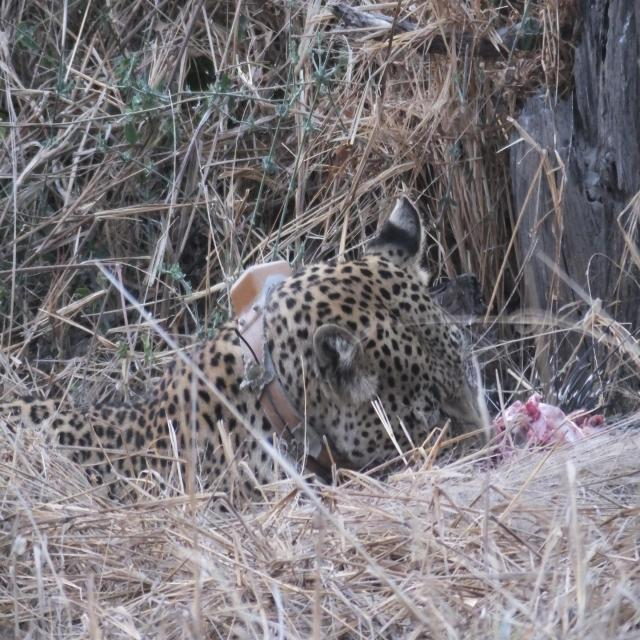Leopard: (0, 266, 517, 582)
